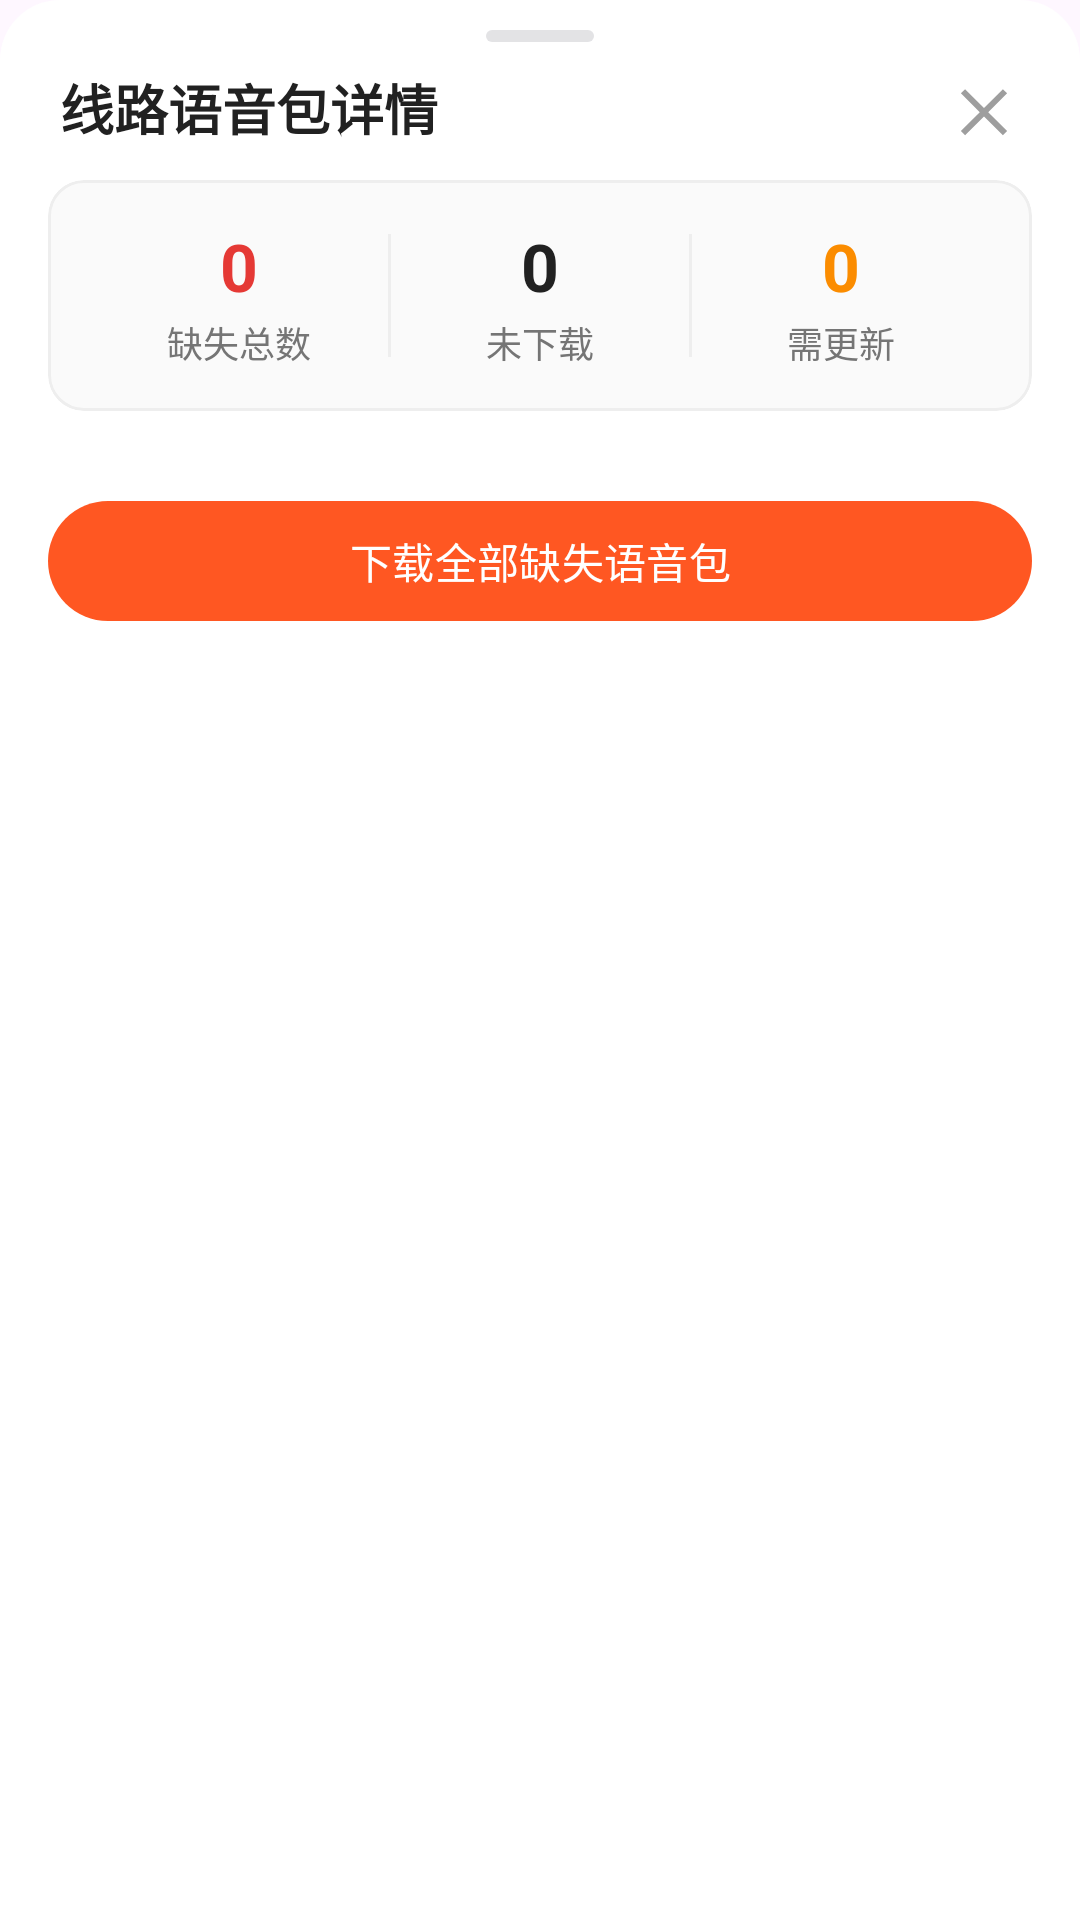

Screen size 1080×1920. Icon name, then its center in pixels as [x,y]:
关闭: [984,112]
